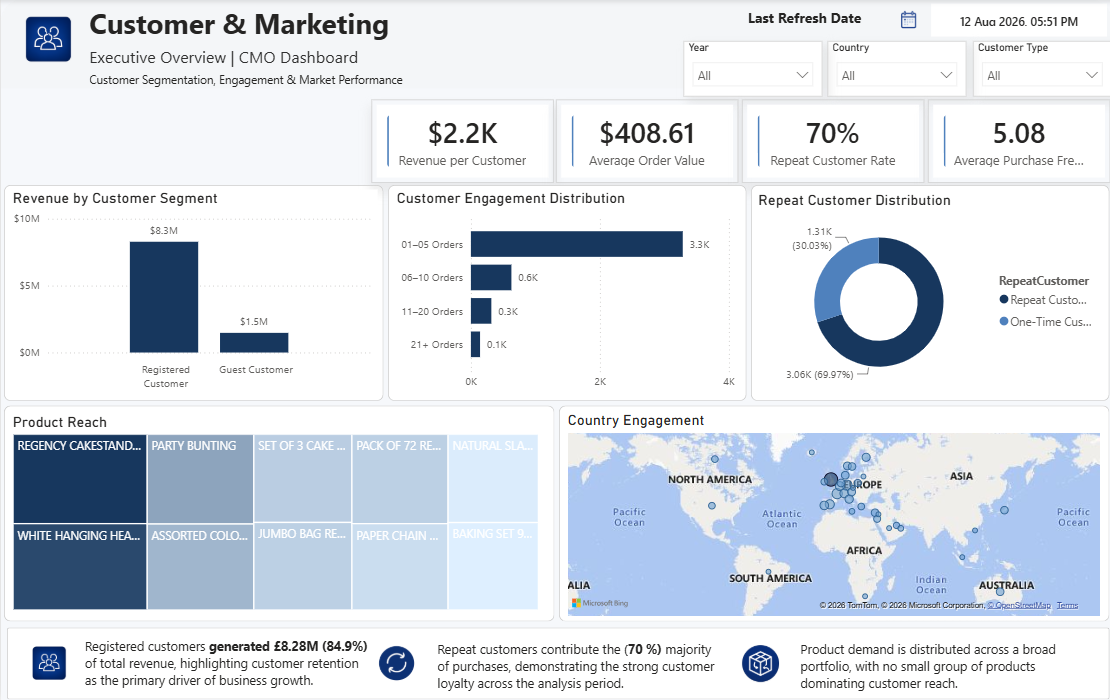

Layout of this report page (visuals, bound fields, positions):
{"tool":"powerbi","page":{"name":"Customer & Marketing Insights","canvas":[1280,810],"ordinal":1},"visuals":[{"type":"shape","box":[0,0,1280,103],"z":0},{"type":"slicer","title":"Customer Type","fields":{"Values":["analytics_sales.CustomerType"]},"box":[1118.6,48.1,160,64],"z":0,"group":"g1"},{"type":"cardVisual","fields":{"Data":["_measure_table.Revenue per Customer"]},"box":[429.1,114.5,210,96],"z":0,"group":"g2"},{"type":"textbox","box":[96,0,640,80],"z":1000},{"type":"slicer","title":"Country","fields":{"Values":["analytics_sales.Country"]},"box":[951.6,48.1,160,64],"z":1000,"group":"g1"},{"type":"cardVisual","fields":{"Data":["_measure_table.Average Order Value"]},"box":[642.1,114.8,210,96],"z":1000,"group":"g2"},{"type":"textbox","box":[96.2,48.1,415.3,48.1],"z":2000},{"type":"slicer","title":"Year","fields":{"Values":["dim_date.Year"]},"box":[785.6,48.1,160,64],"z":2000,"group":"g1"},{"type":"cardVisual","fields":{"Data":["_measure_table.Repeat Customer Rate"]},"box":[856.1,114.5,210,96],"z":2000,"group":"g2"},{"type":"cardVisual","fields":{"Data":["_measure_table.Average Purchase Frequency"]},"box":[1070.1,114.5,210,96],"z":3000,"group":"g2"},{"type":"shape","box":[3.5,214.3,437.3,248.9],"z":3000},{"type":"cardVisual","fields":{"Data":["_measure_table.Last Refresh Date"]},"box":[1066.2,0,213.2,48.1],"z":4000},{"type":"group","id":"g1","title":"Group 3","box":[785.6,48.1,493.8,64.1],"z":5000},{"type":"textbox","box":[96.2,78.6,481,32.1],"z":6000},{"type":"group","id":"g2","title":"Group 4","box":[429.1,114.5,850.3,95.1],"z":7000},{"type":"textbox","box":[856.2,6,174.8,40.1],"z":8000},{"type":"image","box":[1012,6.4,65.7,35.3],"z":9000},{"type":"shape","box":[6.9,724.2,1270.3,83],"z":10000},{"type":"textbox","box":[91.3,730.1,338,69.8],"z":11000},{"type":"image","box":[6.9,5.2,95.1,84.7],"z":12000},{"type":"clusteredColumnChart","title":"Revenue by Customer Segment","fields":{"Y":["_measure_table.Total Revenue"],"Category":["analytics_sales.CustomerType"]},"box":[8,219.5,425,238.5],"z":13000},{"type":"shape","box":[865,214.3,413.1,248.9],"z":14000},{"type":"shape","box":[446,214,413.1,248.9],"z":15000},{"type":"clusteredBarChart","title":"Customer Engagement Distribution","fields":{"Y":["_measure_table.Distinct Customers"],"Category":["dim_customer.Customer Frequency Band"]},"box":[451.1,219.5,399.2,238.5],"z":16000},{"type":"donutChart","title":"Repeat Customer Distribution","fields":{"Category":["dim_customer.RepeatCustomer"],"Y":["CountNonNull(dim_customer.RepeatCustomer)"]},"box":[868,221,407,236],"z":17000},{"type":"shape","box":[3.5,468.4,634.3,248.9],"z":18000},{"type":"treemap","title":"Product Reach","fields":{"Group":["analytics_sales.Description"],"Values":["_measure_table.Product Reach"]},"box":[8.6,477,615.3,231.6],"z":19000},{"type":"shape","box":[642.9,468.4,634.3,248.9],"z":20000},{"type":"map","title":"Country Engagement","fields":{"Category":["analytics_sales.Country"],"Size":["_measure_table.Map Bubble Size"]},"box":[647.8,475,623,240],"z":21000},{"type":"image","box":[25.1,733.6,62.6,66.2],"z":22000},{"type":"image","box":[415.1,730.1,82.3,75.2],"z":23000},{"type":"textbox","box":[497.5,733.6,338.2,69.8],"z":24000},{"type":"image","box":[835.6,724.7,80.5,85.9],"z":25000},{"type":"textbox","box":[916.2,733.6,354.3,69.8],"z":26000}]}

Visuals, with their boxes in screenshot pixels (x1, y1, x2, y2), scaled from the page's 1280x810 canvas onto the 1110x700 screenshot:
shape: (0, 0, 1109, 89)
"Customer Type" slicer: (970, 42, 1109, 97)
cardVisual - _measure_table.Revenue per Customer: (372, 99, 554, 182)
textbox: (83, 0, 638, 69)
"Country" slicer: (825, 42, 964, 97)
cardVisual - _measure_table.Average Order Value: (557, 99, 739, 182)
textbox: (83, 42, 444, 83)
"Year" slicer: (681, 42, 820, 97)
cardVisual - _measure_table.Repeat Customer Rate: (742, 99, 925, 182)
cardVisual - _measure_table.Average Purchase Frequency: (928, 99, 1109, 182)
shape: (3, 185, 382, 400)
cardVisual - _measure_table.Last Refresh Date: (925, 0, 1109, 42)
"Group 3" group: (681, 42, 1109, 97)
textbox: (83, 68, 501, 96)
"Group 4" group: (372, 99, 1109, 181)
textbox: (742, 5, 894, 40)
image: (878, 6, 935, 36)
shape: (6, 626, 1108, 698)
textbox: (79, 631, 372, 691)
image: (6, 4, 88, 78)
"Revenue by Customer Segment" clusteredColumnChart: (7, 190, 375, 396)
shape: (750, 185, 1108, 400)
shape: (387, 185, 745, 400)
"Customer Engagement Distribution" clusteredBarChart: (391, 190, 737, 396)
"Repeat Customer Distribution" donutChart: (753, 191, 1106, 395)
shape: (3, 405, 553, 620)
"Product Reach" treemap: (7, 412, 541, 612)
shape: (558, 405, 1108, 620)
"Country Engagement" map: (562, 410, 1102, 618)
image: (22, 634, 76, 691)
image: (360, 631, 431, 696)
textbox: (431, 634, 725, 694)
image: (725, 626, 794, 699)
textbox: (795, 634, 1102, 694)
